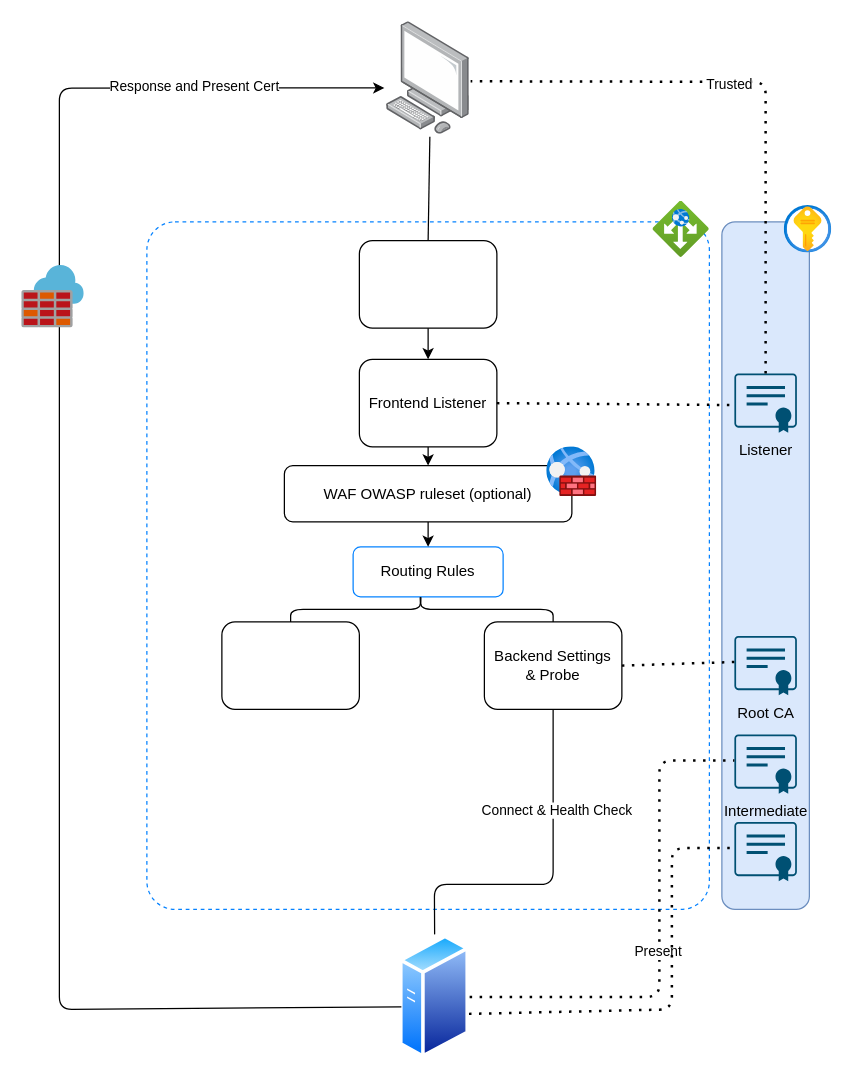
The diagram is 853 pixels wide and 1080 high, and some of its shapes have lost their labels. The centre of each missing label's shape, as x and y in pixels:
Backend Pool: point (290, 665)
Clients: point (427, 77)
Frontend (IP): point (427, 283)
Server: point (765, 851)
